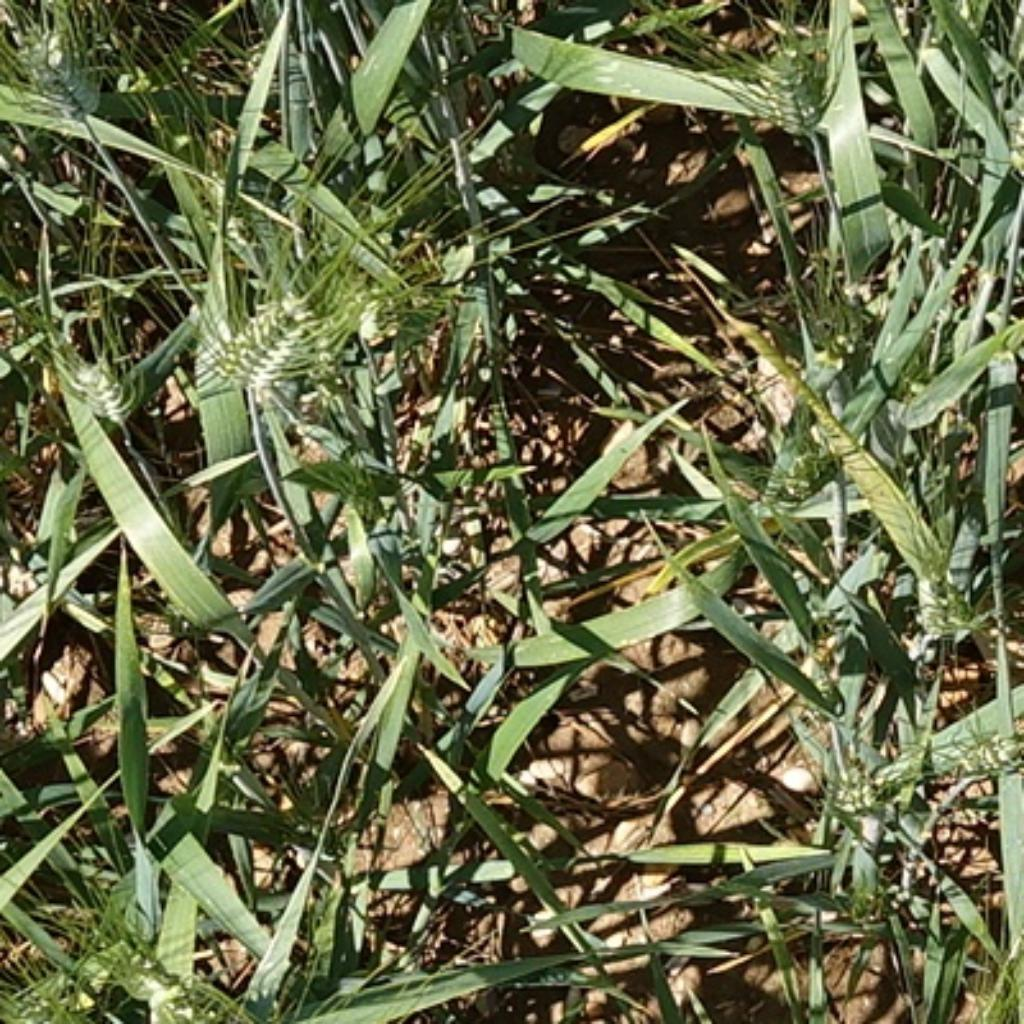0-0: (100, 923, 227, 1018), (207, 287, 307, 393), (11, 26, 107, 127), (757, 417, 849, 517), (747, 49, 844, 135), (48, 332, 138, 419), (2, 952, 110, 1024), (952, 704, 1024, 791), (923, 544, 985, 643), (789, 288, 854, 350), (347, 286, 412, 346), (339, 460, 388, 527), (836, 774, 882, 826)
